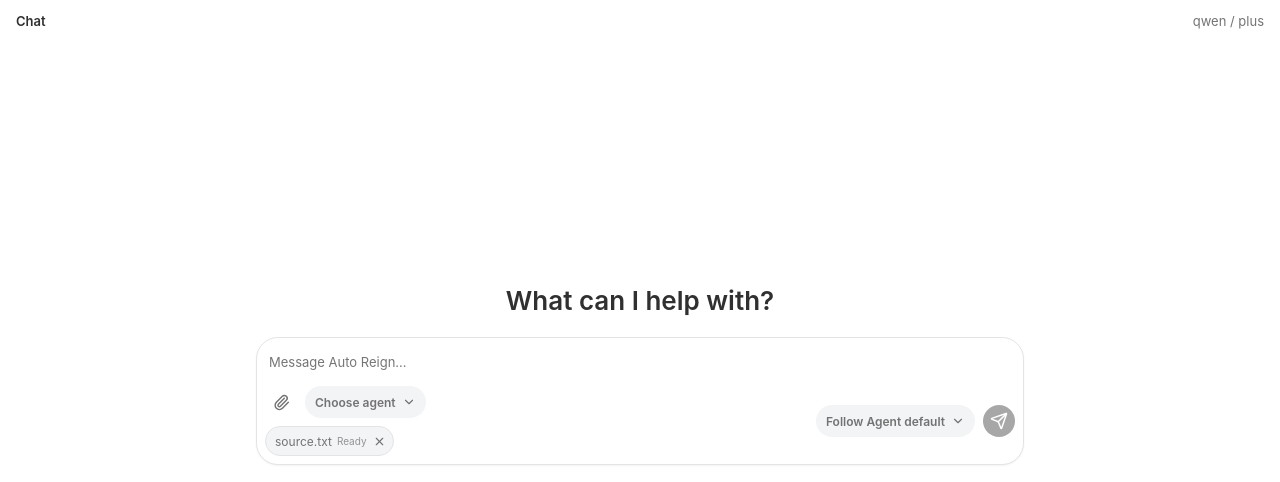
Test: ChatWorkspace › sends through the Task hook, binds the draft snapshot, clears it after ACK, and routes
Check: the text "source.txt" is shown, box x1=275 y1=434 x2=332 y2=449
Type "Use this file" into the text box labelled "Message Auto Reign" at (640, 362), box x1=265 y1=346 x2=1015 y2=378
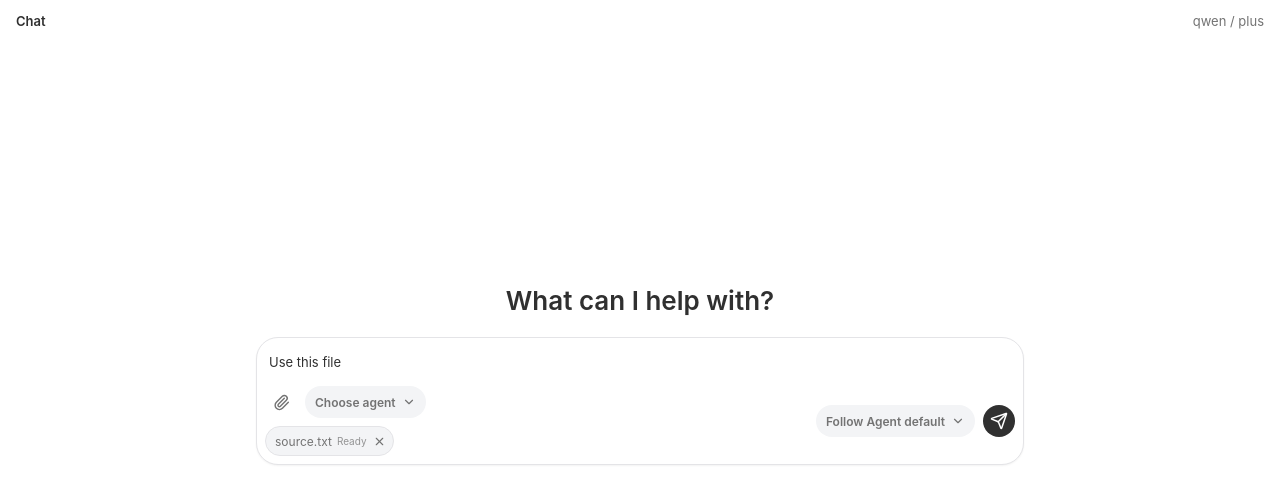
Click the button named "Send message" at (999, 421), box x1=983 y1=405 x2=1015 y2=437
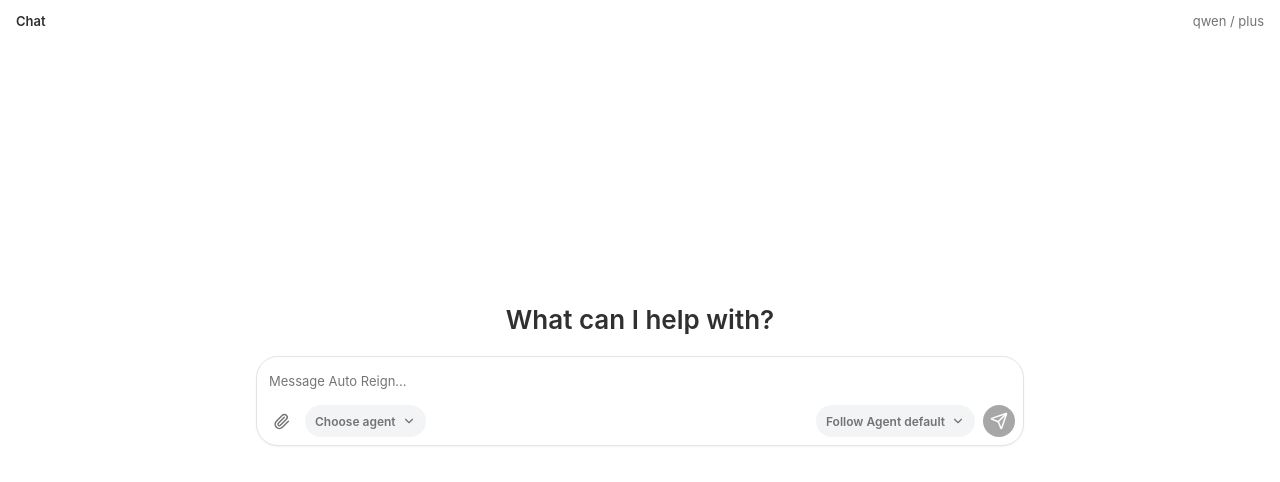
Check: the text "source.txt" is gone
